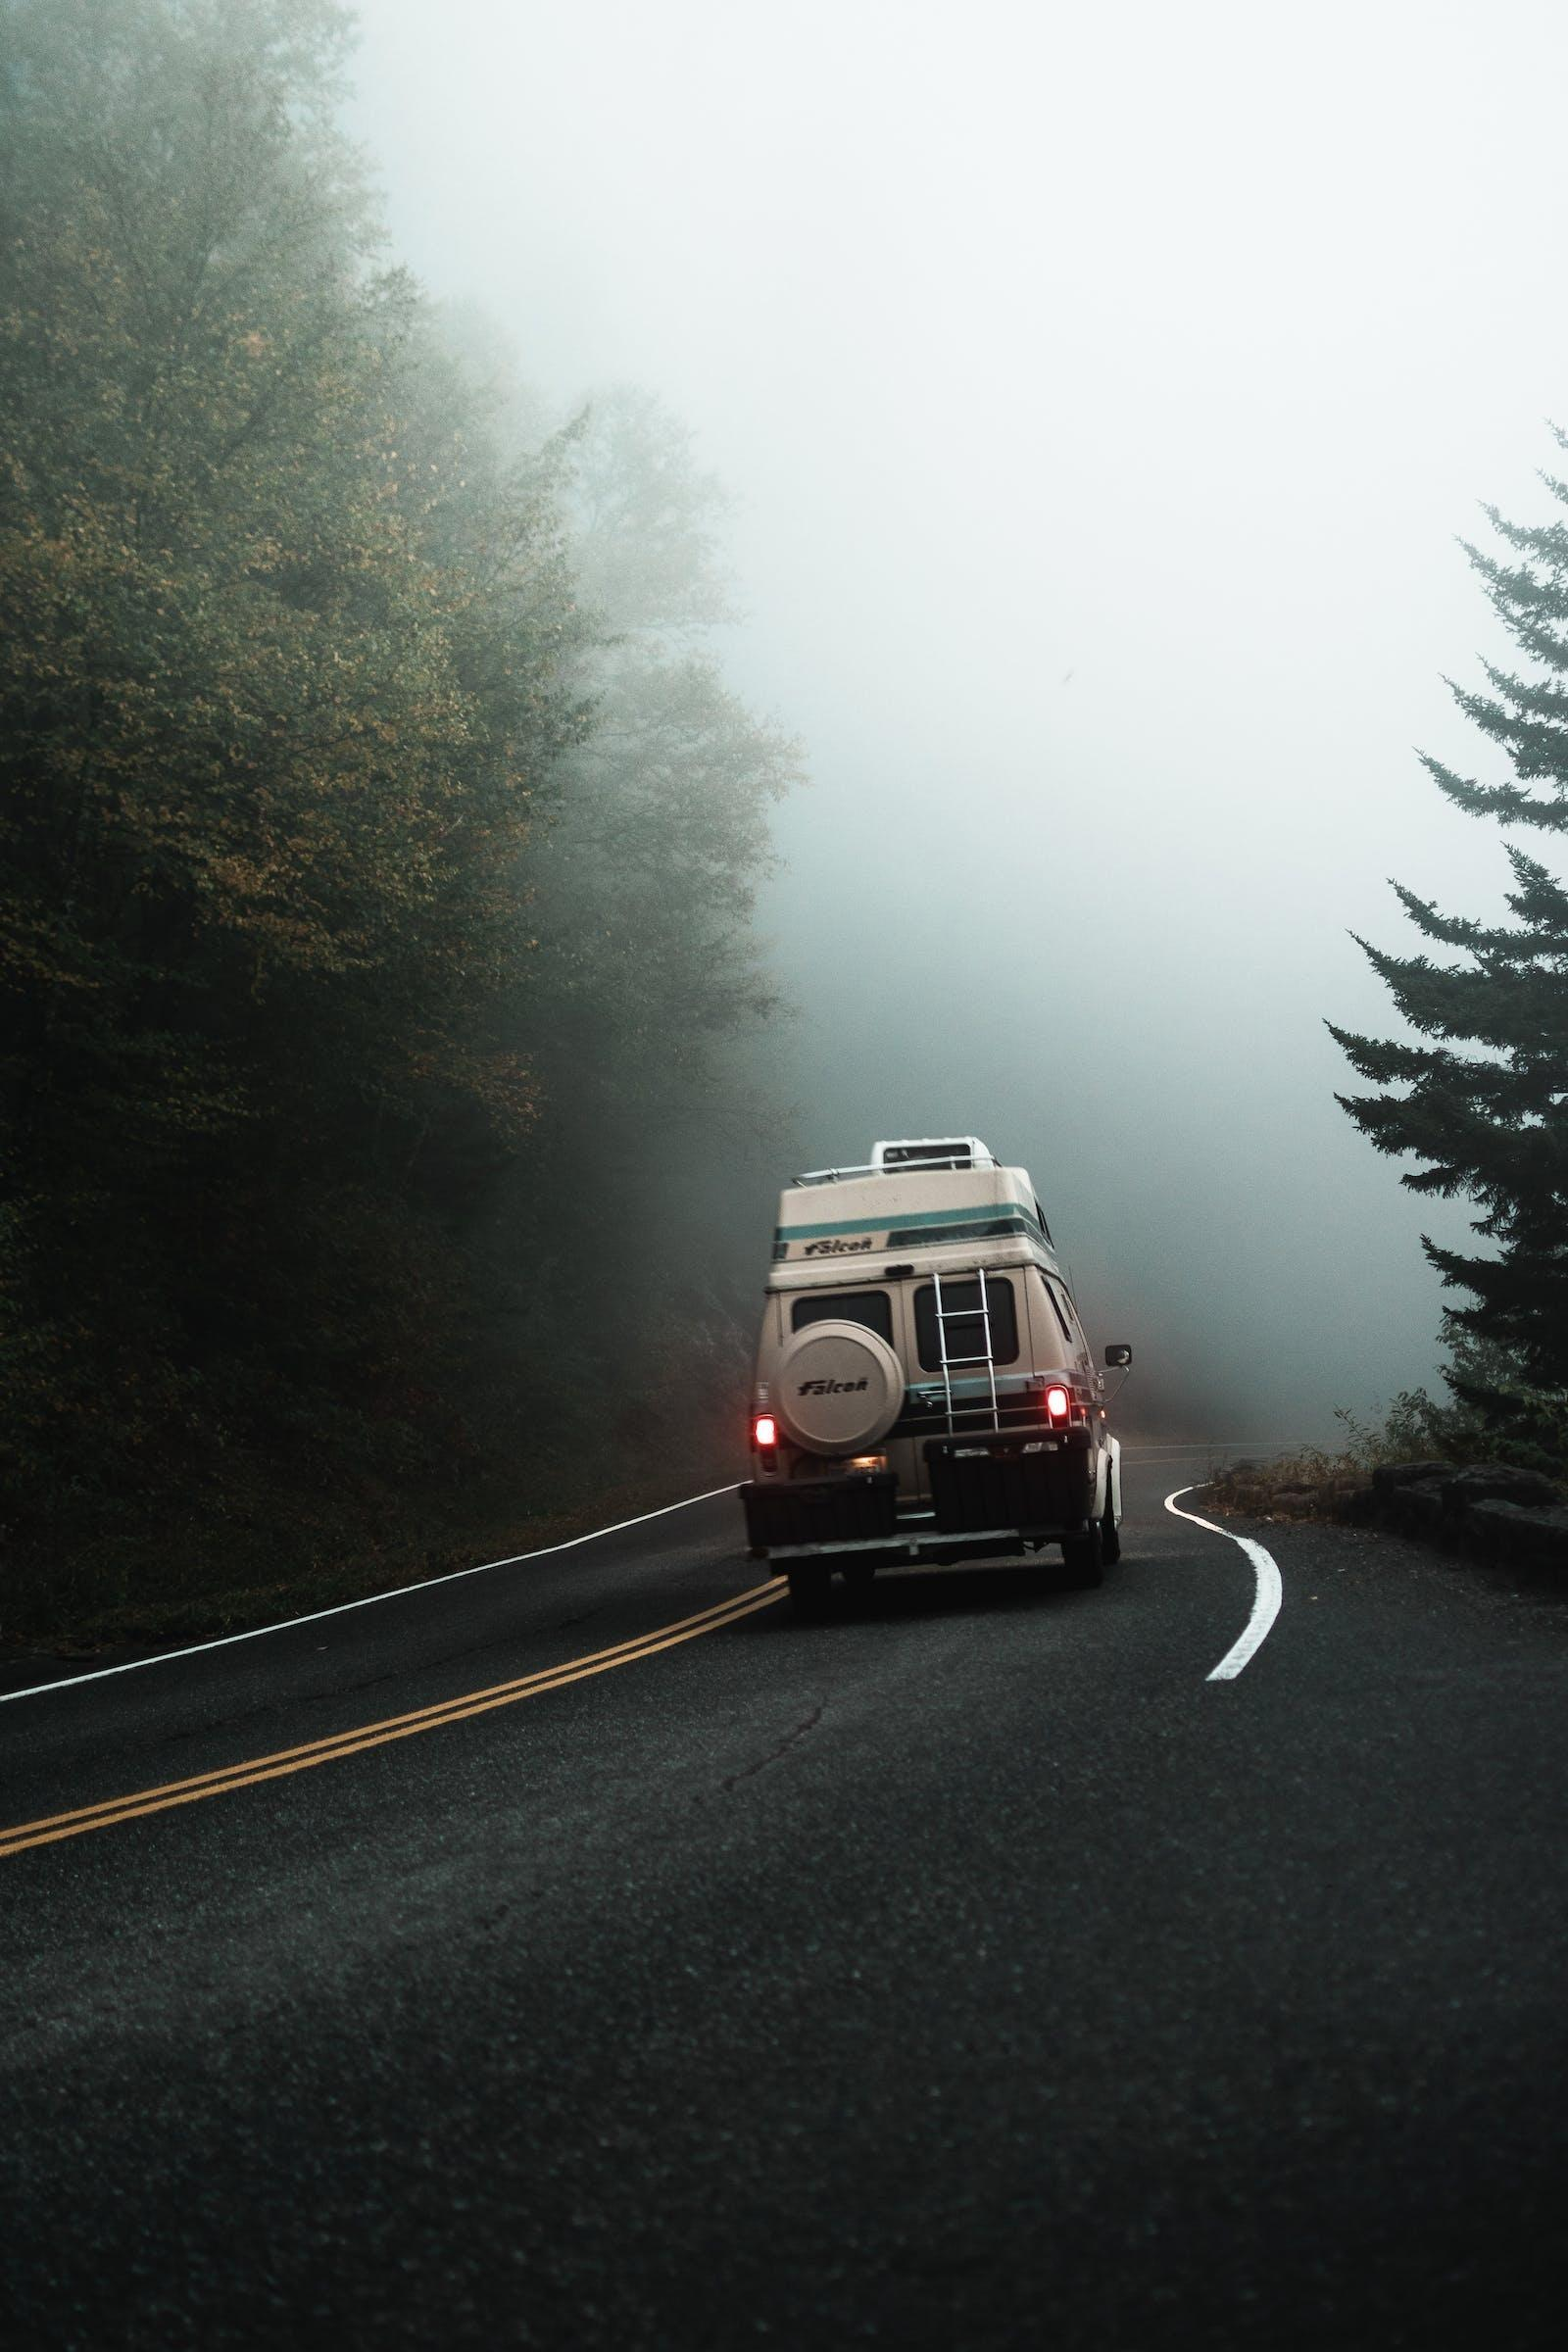road: (0, 1461, 1564, 2350)
